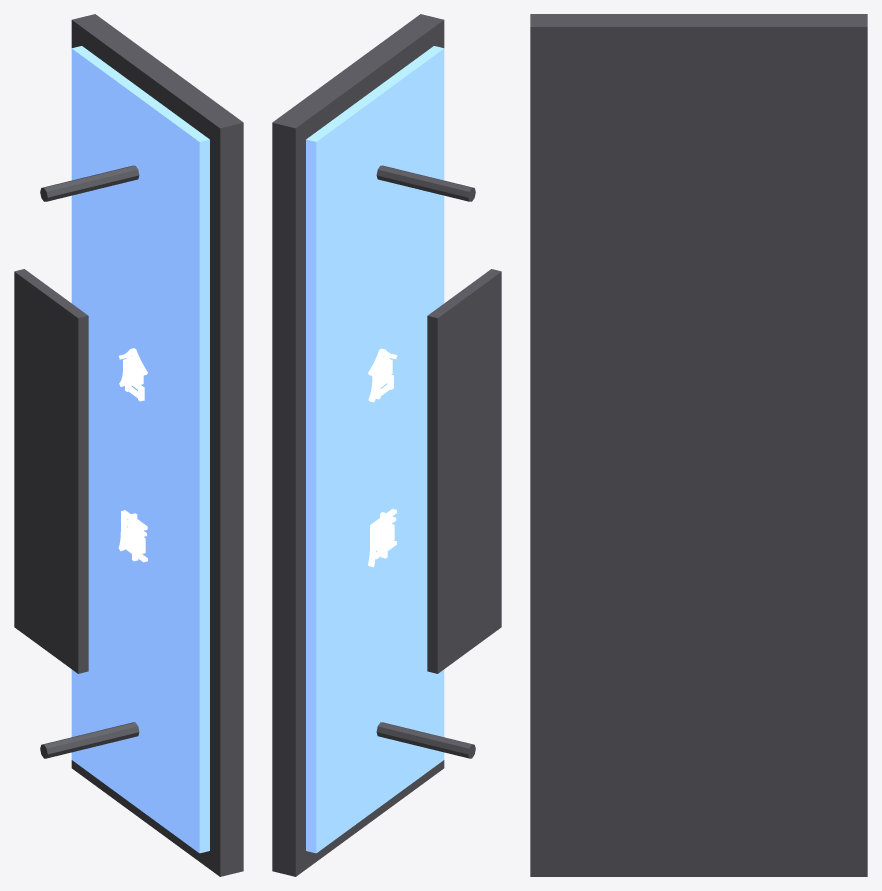
The model's file is bt-hw-sign-soko.glb.
The picture shows the model from 3 angles, left to right: view 1: azimuth 30°, elevation 25°; view 2: azimuth 150°, elevation 25°; view 3: azimuth 270°, elevation 25°; orthographic projection. The views are drawn at different scales.
Parts seen in each view (by area): view 1: bt-hw-sign-soko_board_soko, bt-hw-sign-soko_frame, bt-hw-sign-soko_plate, bt-hw-sign-soko_arm4.1, bt-hw-sign-soko_arm0.5, bt-hw-sign-soko_txL_1, bt-hw-sign-soko_txL_0; view 2: bt-hw-sign-soko_board_soko, bt-hw-sign-soko_frame, bt-hw-sign-soko_plate, bt-hw-sign-soko_arm4.1, bt-hw-sign-soko_arm0.5, bt-hw-sign-soko_txL_1, bt-hw-sign-soko_txL_0; view 3: bt-hw-sign-soko_frame.
Boxes of the visible parts, x1,y1,x2,y2 form: bt-hw-sign-soko_board_soko: (71,46,209,853); bt-hw-sign-soko_frame: (71,14,243,876); bt-hw-sign-soko_plate: (14,269,88,673); bt-hw-sign-soko_arm4.1: (40,165,139,201); bt-hw-sign-soko_arm0.5: (40,722,139,758); bt-hw-sign-soko_txL_1: (118,510,147,562); bt-hw-sign-soko_txL_0: (119,348,147,401); bt-hw-sign-soko_board_soko: (306,46,444,853); bt-hw-sign-soko_frame: (272,14,444,876); bt-hw-sign-soko_plate: (427,269,501,673); bt-hw-sign-soko_arm4.1: (376,165,475,201); bt-hw-sign-soko_arm0.5: (376,722,475,758); bt-hw-sign-soko_txL_1: (368,509,396,567); bt-hw-sign-soko_txL_0: (368,348,397,402); bt-hw-sign-soko_frame: (530,14,867,876).
Size of the model in its own units: 0.85 by 4.84 by 1.74.
